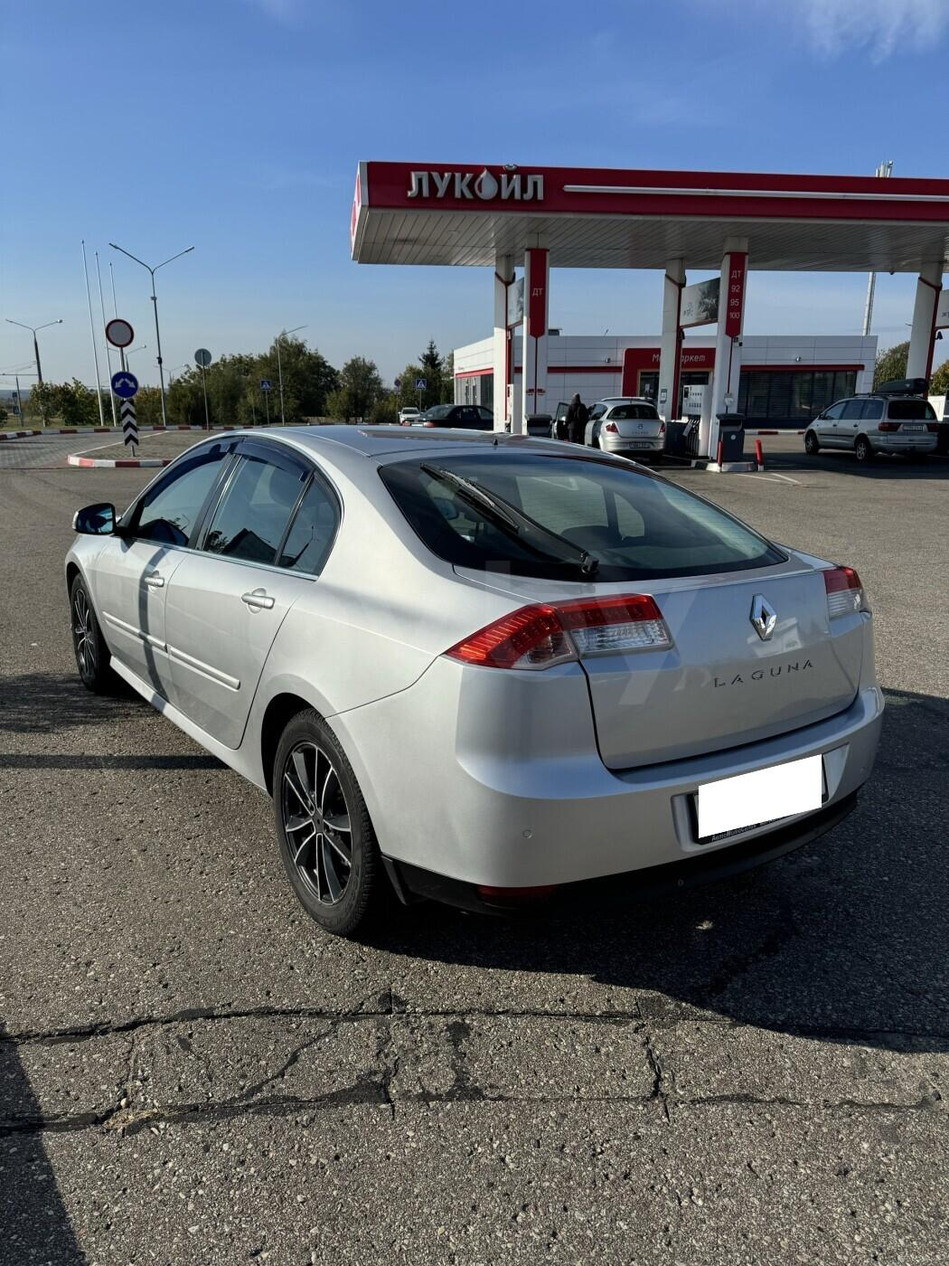Laguna_2007-2011: (64, 426, 884, 934)
